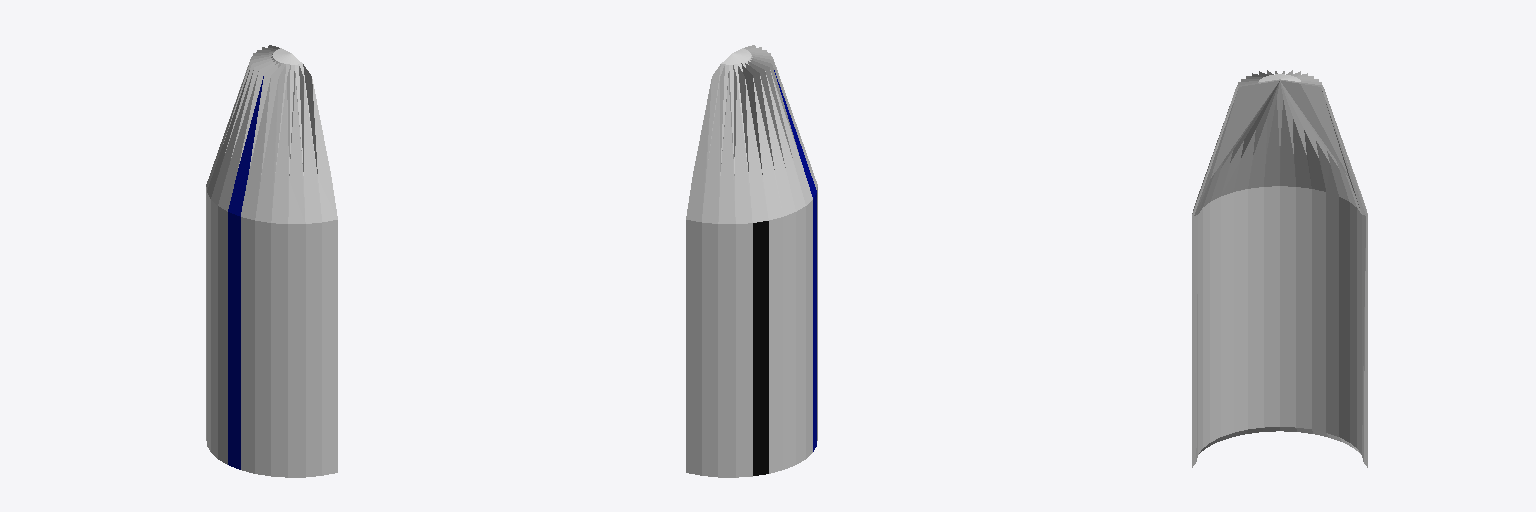
Rendered from debris0.obj.
3 views of the same model, side by side, from view 1: azimuth 30°, elevation 25°; view 2: azimuth 150°, elevation 25°; view 3: azimuth 270°, elevation 25° (orthographic).
Visible parts, largest first — view 1: Cylinder.001_Cylinder.003; view 2: Cylinder.001_Cylinder.003; view 3: Cylinder.001_Cylinder.003.
Part boxes in pixels (x1,y1,x2,y2): Cylinder.001_Cylinder.003: (206,45,337,477); Cylinder.001_Cylinder.003: (686,45,817,477); Cylinder.001_Cylinder.003: (1192,70,1367,467).
Size of the model in its own units: 2.6 by 12.65 by 5.2.